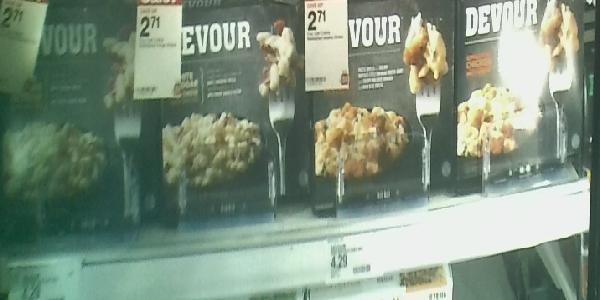pizza1: (149, 1, 309, 214), (2, 1, 147, 229), (308, 1, 459, 203), (456, 1, 591, 186)
